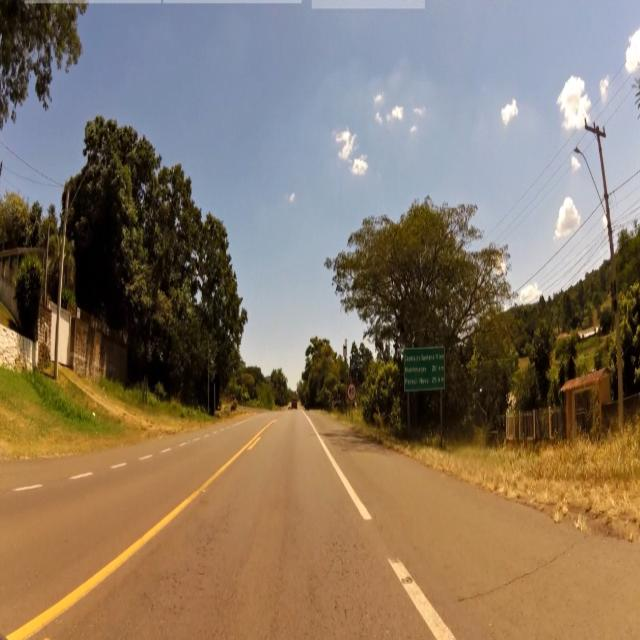I-4: (405, 347, 446, 389)
